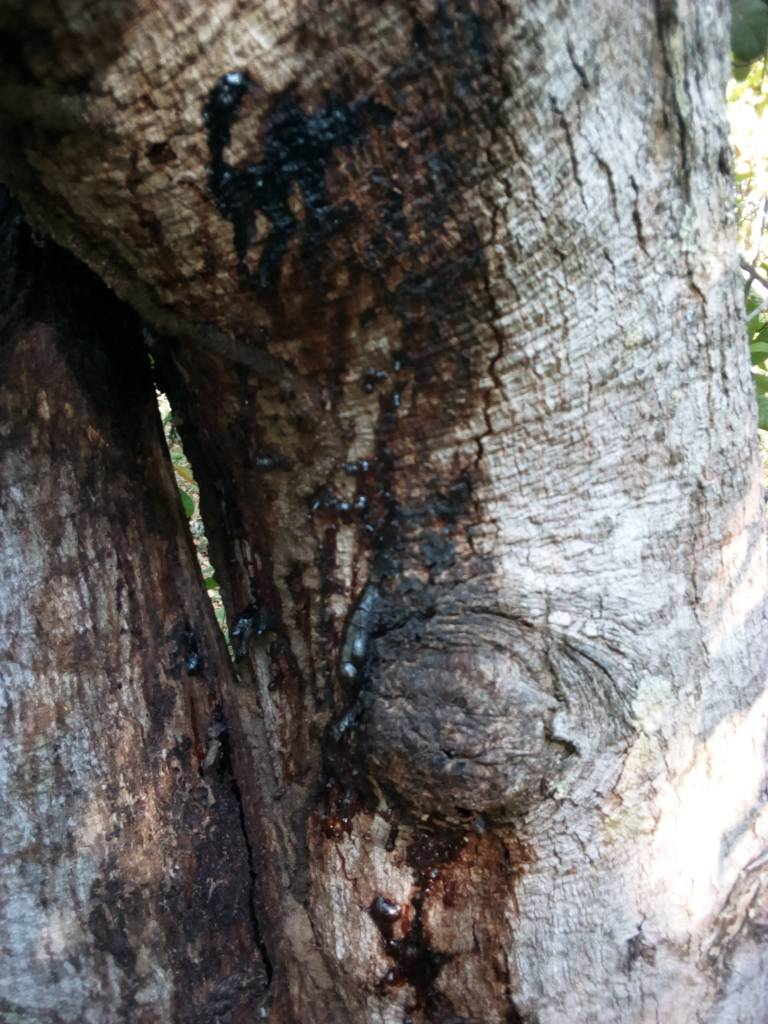Gommose: (211, 69, 507, 613), (196, 624, 377, 824), (377, 827, 493, 1024)
